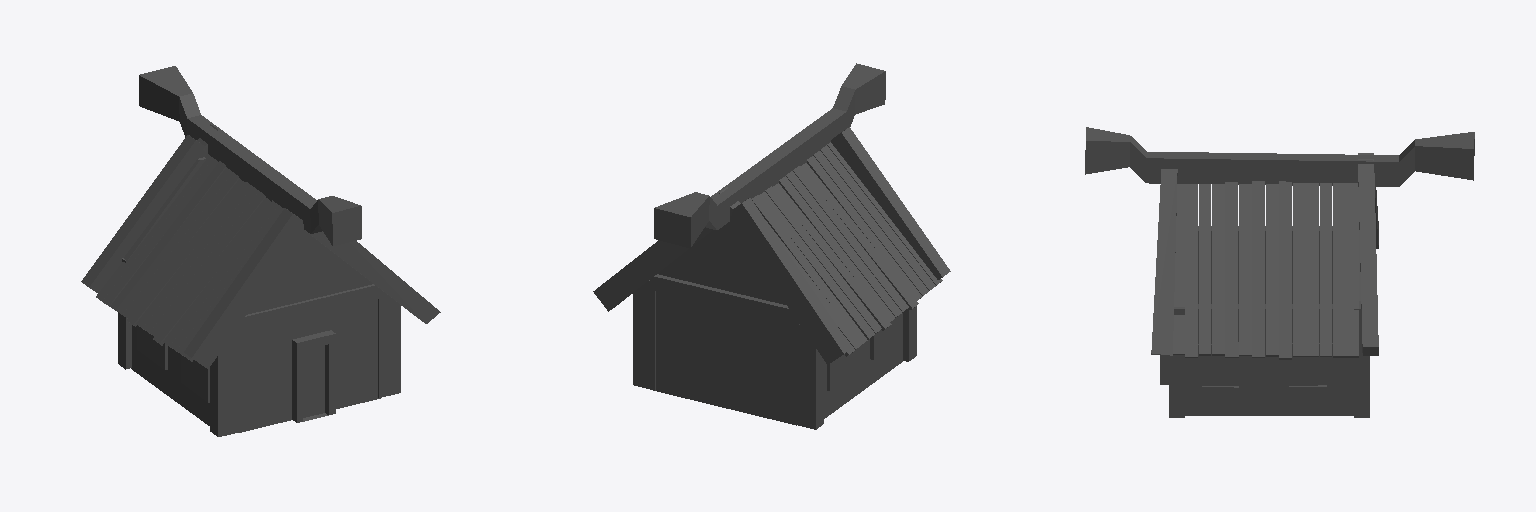
The model's file is house.obj.
The picture shows the model from 3 angles: view 1: azimuth 30°, elevation 25°; view 2: azimuth 150°, elevation 25°; view 3: azimuth 270°, elevation 25°; orthographic projection.
Parts seen in each view (by area): view 1: Default.001; view 2: Default.001; view 3: Default.001.
Boxes of the visible parts, x1,y1,x2,y2 form: Default.001: [81, 66, 440, 436]; Default.001: [593, 63, 950, 429]; Default.001: [1085, 127, 1474, 417].
Bounding box in the file's own units: 7.47 × 6.78 × 10.03.